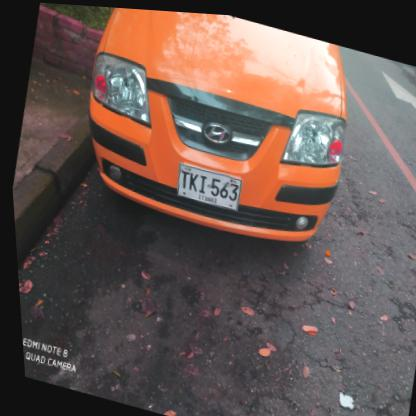placa: (167, 157, 243, 212)
